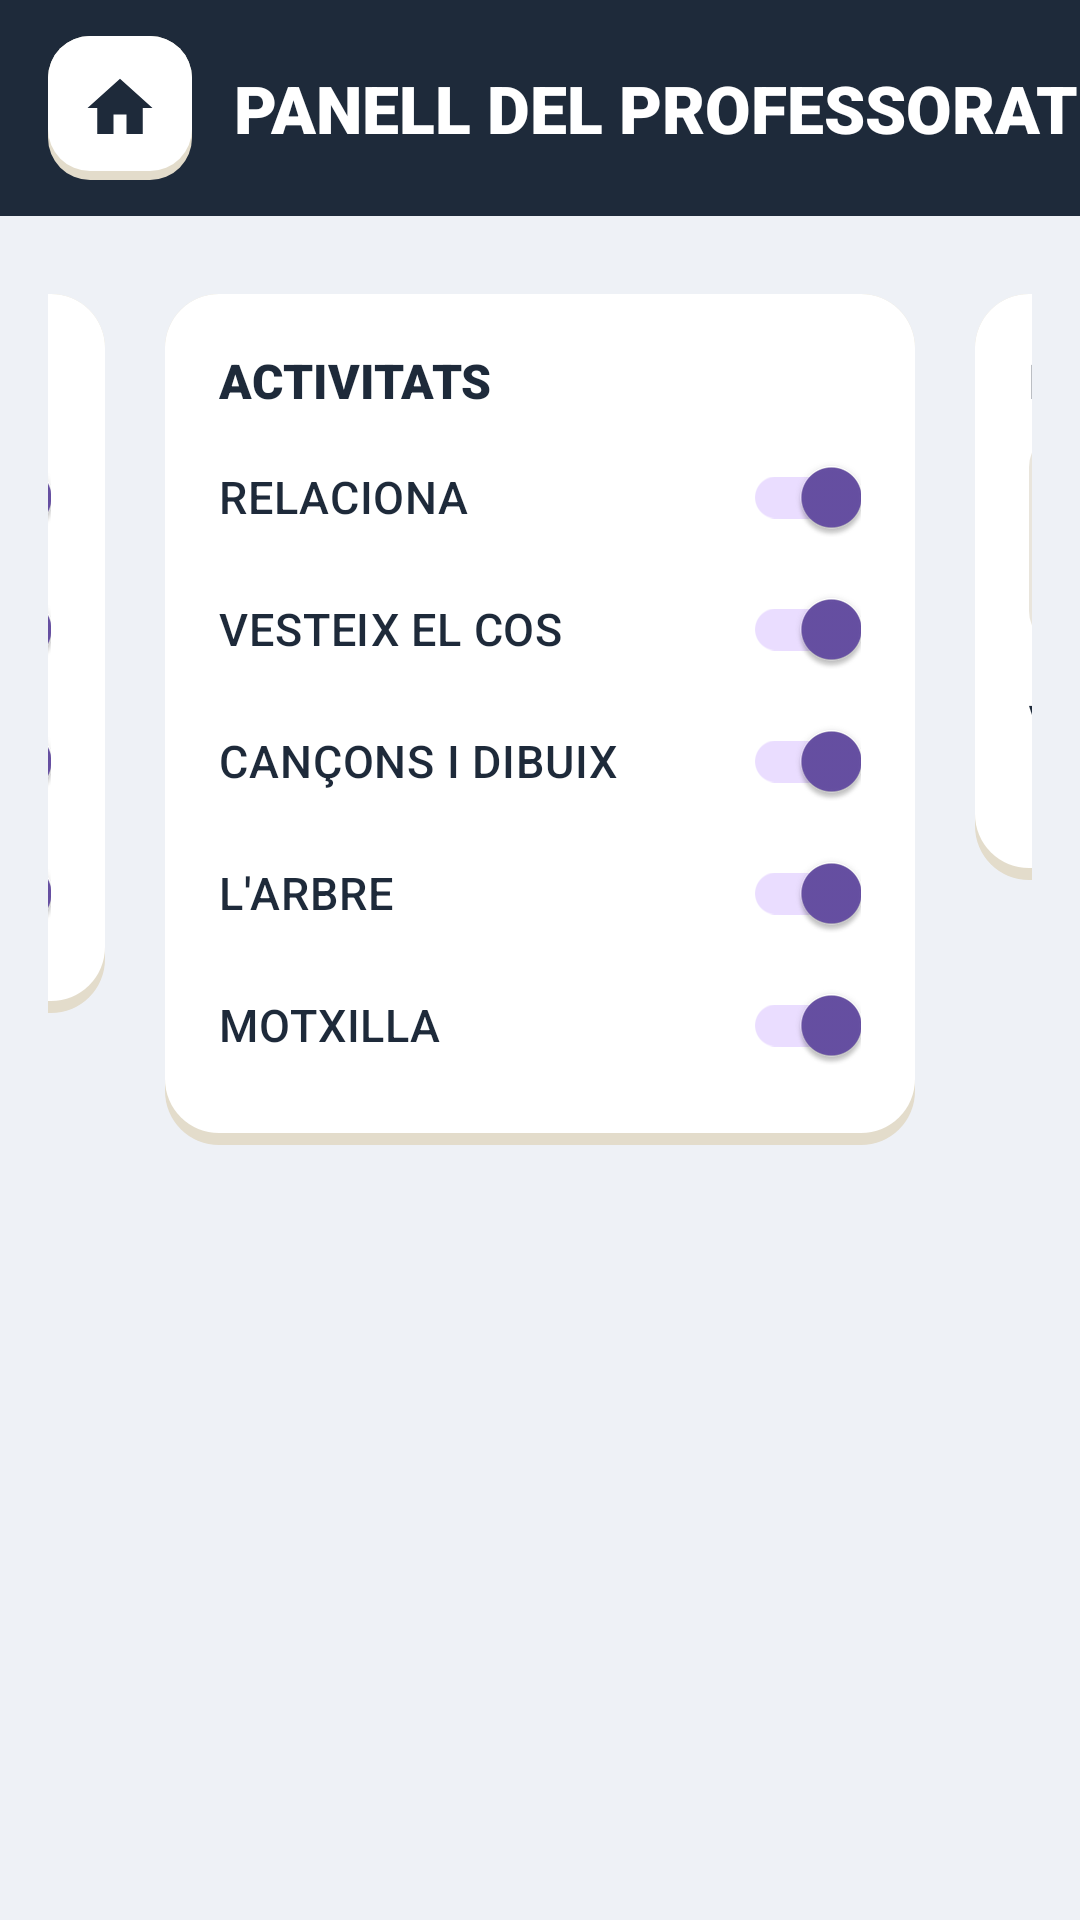

Point at icon controls on the screen. Image size 1080*1920, points as point (x, y).
Inici: point (120, 108)
